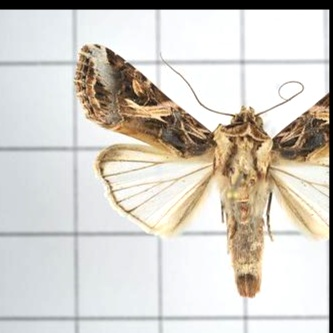Spodoptera litura: (73, 41, 328, 297)
